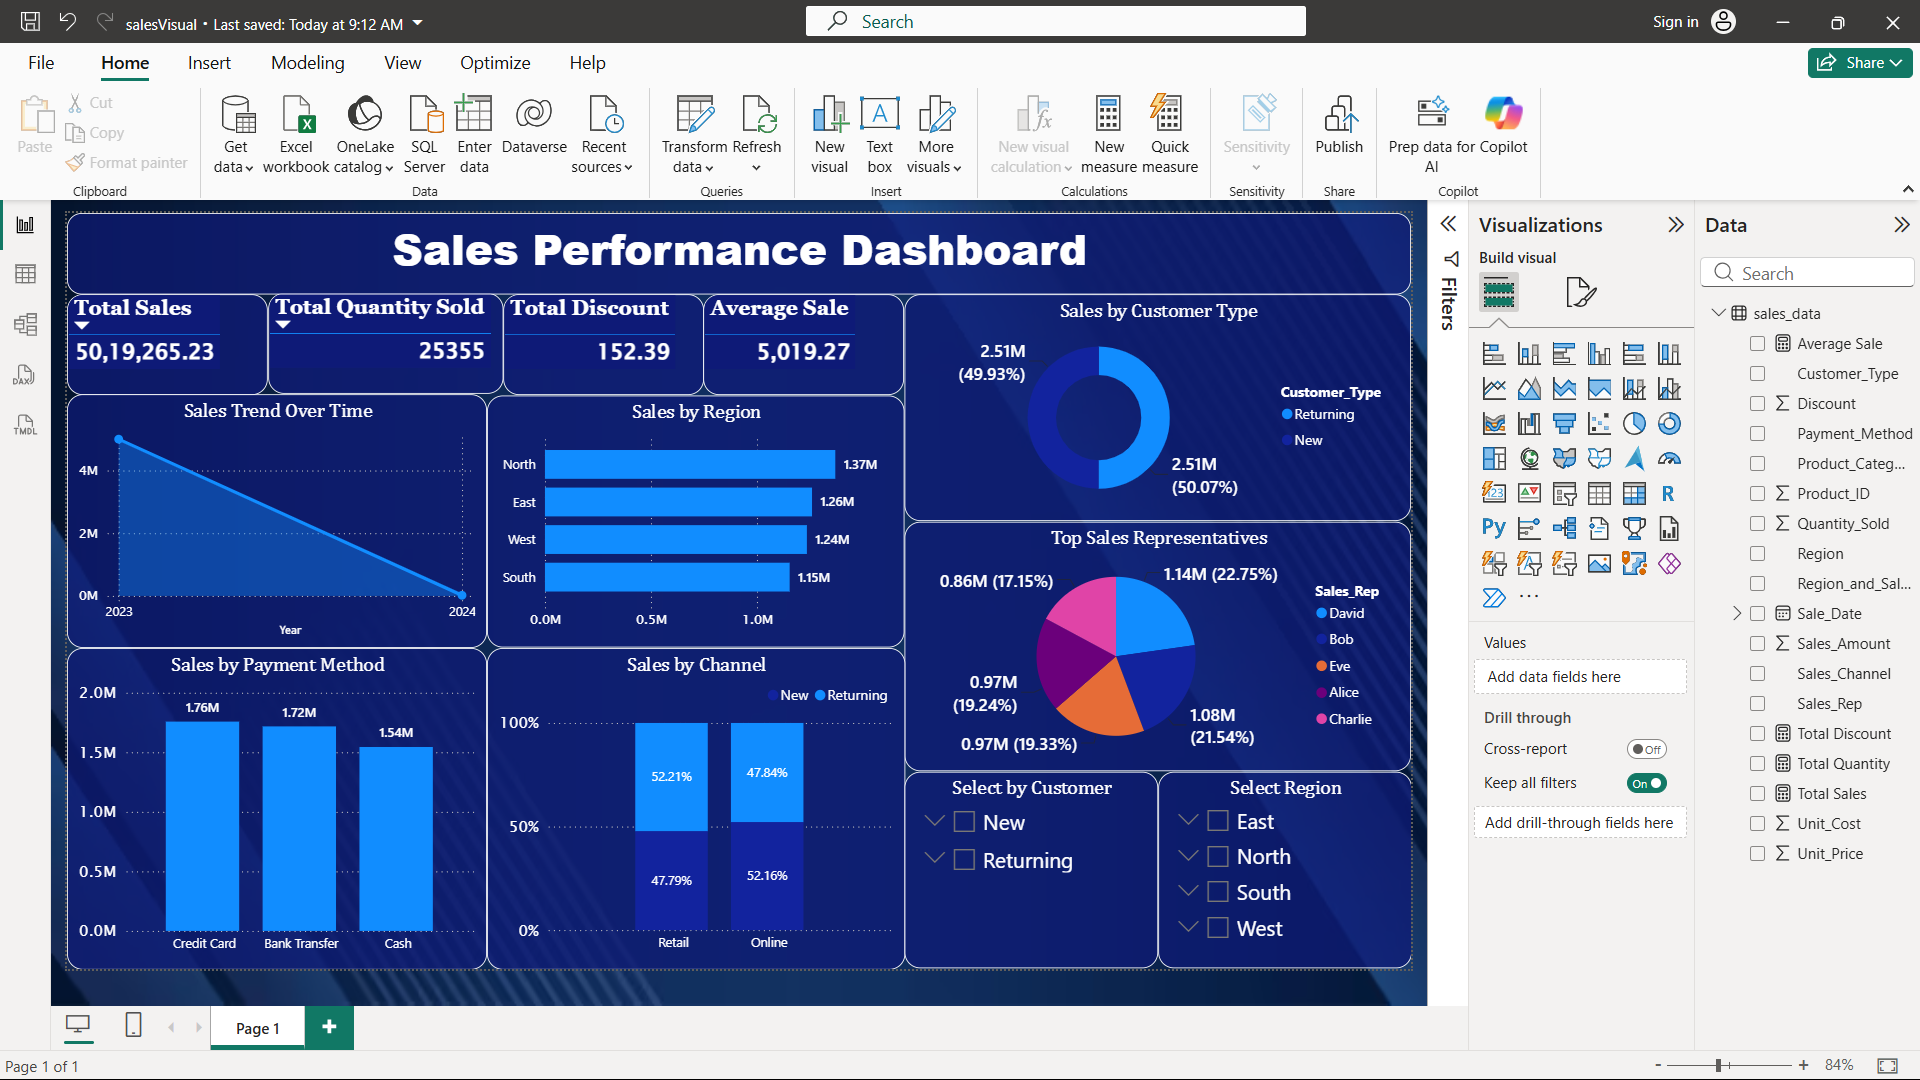

The dashboard page shown, as its layout file describes it:
{"tool":"powerbi","page":{"name":"Page 1","canvas":[1280,720],"ordinal":0},"visuals":[{"type":"tableEx","fields":{"Values":["sales_data.Total Sales"]},"box":[0,77.5,191.2,96.2],"z":0},{"type":"tableEx","fields":{"Values":["sales_data.Total Quantity"]},"box":[191.2,76.2,223.8,96.2],"z":1000},{"type":"tableEx","fields":{"Values":["sales_data.Total Discount"]},"box":[415,77.5,191.2,96.2],"z":2000},{"type":"tableEx","fields":{"Values":["sales_data.Average Sale"]},"box":[606.2,77.5,191.2,96.2],"z":3000},{"type":"lineChart","title":"Sales Trend Over Time","fields":{"Category":["sales_data.Sale_Date.Variation.Date Hierarchy.Year","sales_data.Sale_Date.Variation.Date Hierarchy.Quarter","sales_data.Sale_Date.Variation.Date Hierarchy.Month","sales_data.Sale_Date.Variation.Date Hierarchy.Day"],"Y":["Sum(sales_data.Sales_Amount)"]},"box":[0,172.5,400,241.2],"z":4000},{"type":"textbox","title":"Sales Performance Dashboard","box":[0,0,1280,77.5],"z":5000},{"type":"clusteredBarChart","title":"Sales by Region","fields":{"Category":["sales_data.Region"],"Y":["Sum(sales_data.Sales_Amount)"]},"box":[400,173.8,397.5,240],"z":6000},{"type":"donutChart","title":"Sales by Customer Type","fields":{"Category":["sales_data.Customer_Type"],"Y":["Sum(sales_data.Sales_Amount)"]},"box":[797.5,77.5,482.5,216.2],"z":7000},{"type":"pieChart","title":"Top Sales Representatives","fields":{"Category":["sales_data.Sales_Rep"],"Y":["sales_data.Total Sales"]},"box":[797.5,293.8,482.5,237.5],"z":8000},{"type":"clusteredColumnChart","title":"Sales by Payment Method","fields":{"Y":["sales_data.Total Sales"],"Category":["sales_data.Payment_Method"]},"box":[0,413.8,400,306.2],"z":9000},{"type":"hundredPercentStackedColumnChart","title":"Sales by Channel","fields":{"Category":["sales_data.Sales_Channel"],"Y":["Sum(sales_data.Sales_Amount)"],"Series":["sales_data.Customer_Type"]},"box":[400,414,398,306],"z":10000},{"type":"slicer","title":"Select Region","fields":{"Values":["sales_data.Region","sales_data.Sales_Channel"]},"box":[1038.8,532.5,241.2,187.5],"z":11000},{"type":"slicer","title":"Select by Customer","fields":{"Values":["sales_data.Customer_Type","sales_data.Product_Category"]},"box":[797.5,532.5,241.2,187.5],"z":12000}]}

Visuals, with their boxes on the page's 1280x720 design canvas (x1, y1, x2, y2). These are canvas units, not pixel positions in the 1920x1080 screenshot, which may show the page scaled, cropped or inside an application window:
tableEx - sales_data.Total Sales: crop(0, 78, 191, 174)
tableEx - sales_data.Total Quantity: crop(191, 76, 415, 172)
tableEx - sales_data.Total Discount: crop(415, 78, 606, 174)
tableEx - sales_data.Average Sale: crop(606, 78, 797, 174)
"Sales Trend Over Time" lineChart: crop(0, 172, 400, 414)
"Sales Performance Dashboard" textbox: crop(0, 0, 1280, 78)
"Sales by Region" clusteredBarChart: crop(400, 174, 798, 414)
"Sales by Customer Type" donutChart: crop(798, 78, 1280, 294)
"Top Sales Representatives" pieChart: crop(798, 294, 1280, 531)
"Sales by Payment Method" clusteredColumnChart: crop(0, 414, 400, 720)
"Sales by Channel" hundredPercentStackedColumnChart: crop(400, 414, 798, 720)
"Select Region" slicer: crop(1039, 532, 1280, 720)
"Select by Customer" slicer: crop(798, 532, 1039, 720)
